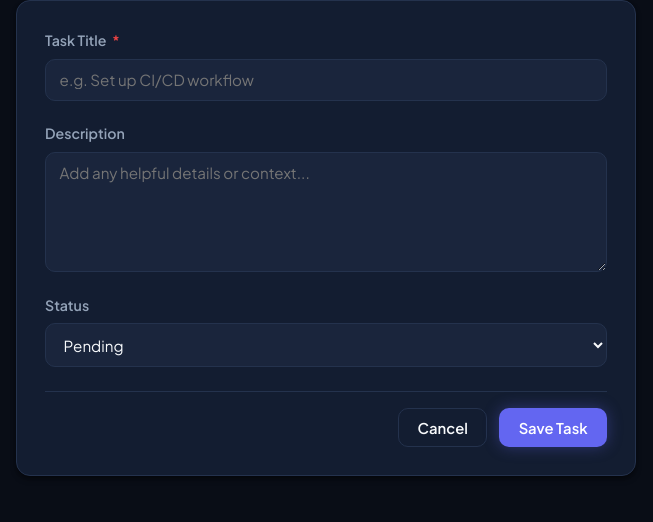
it: TaskForm Component › displays a validation error when title is empty on submit
What coordinates should you click on to do the following:
click the button "Save Task"
I would click on:
 (553, 428)
Its box is [499,408,607,447].
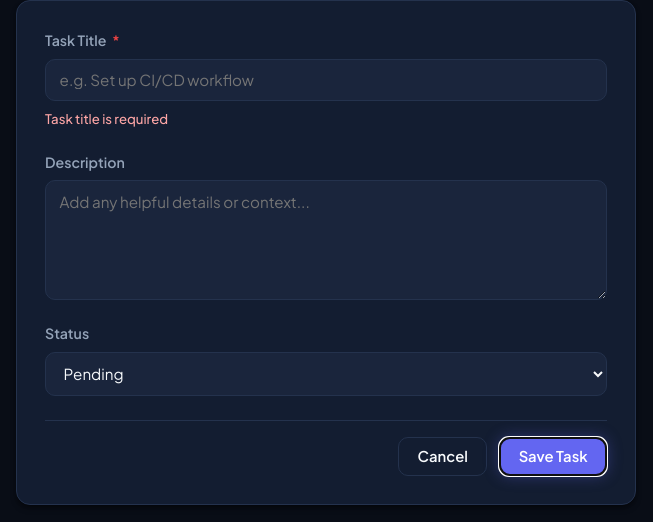
Expected: the text "Task title is required" is shown, [45,110,168,127]
